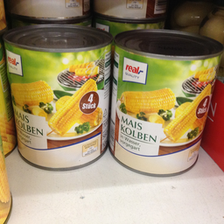corn: (110, 29, 223, 176), (3, 24, 112, 171)
